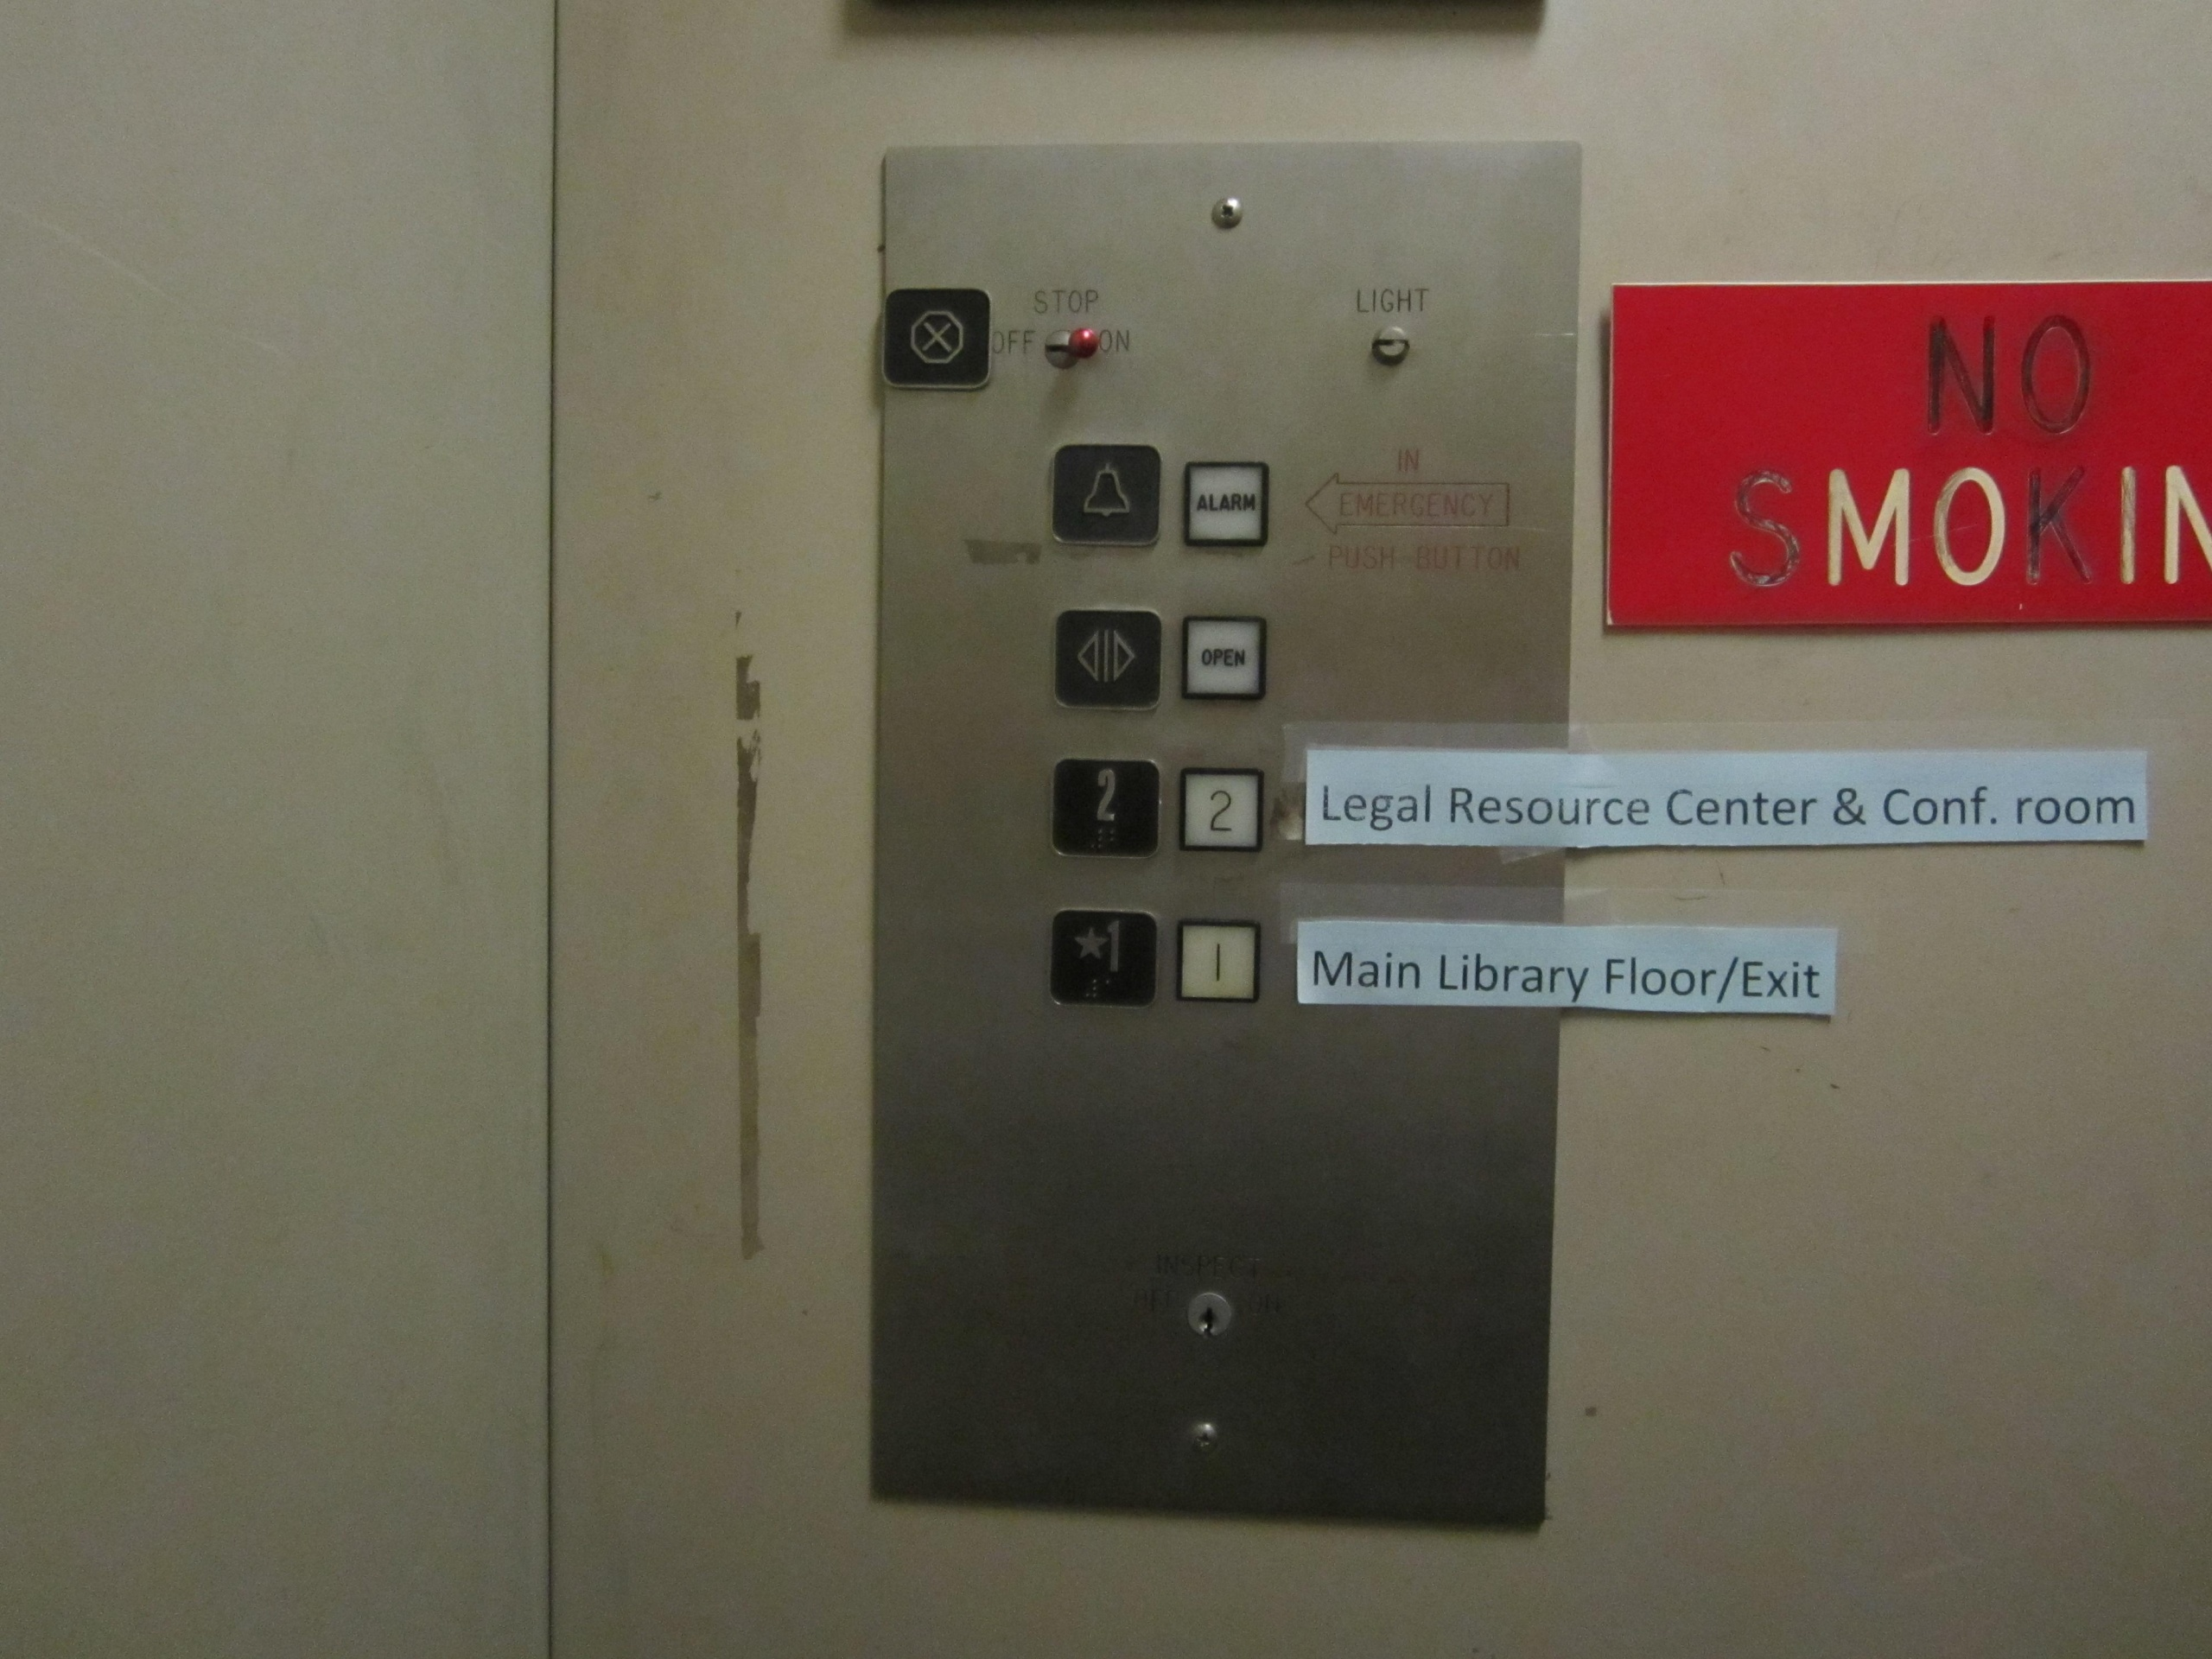1: (1176, 917, 1263, 1006)
2: (1050, 756, 1163, 863), (1176, 763, 1264, 856)
alarm: (1047, 441, 1165, 549)
open: (1052, 608, 1165, 714)
s1: (1047, 906, 1160, 1011)
stop: (881, 286, 996, 392)
switch: (1036, 319, 1099, 378)
text: (1179, 457, 1273, 551), (1177, 610, 1268, 704)
